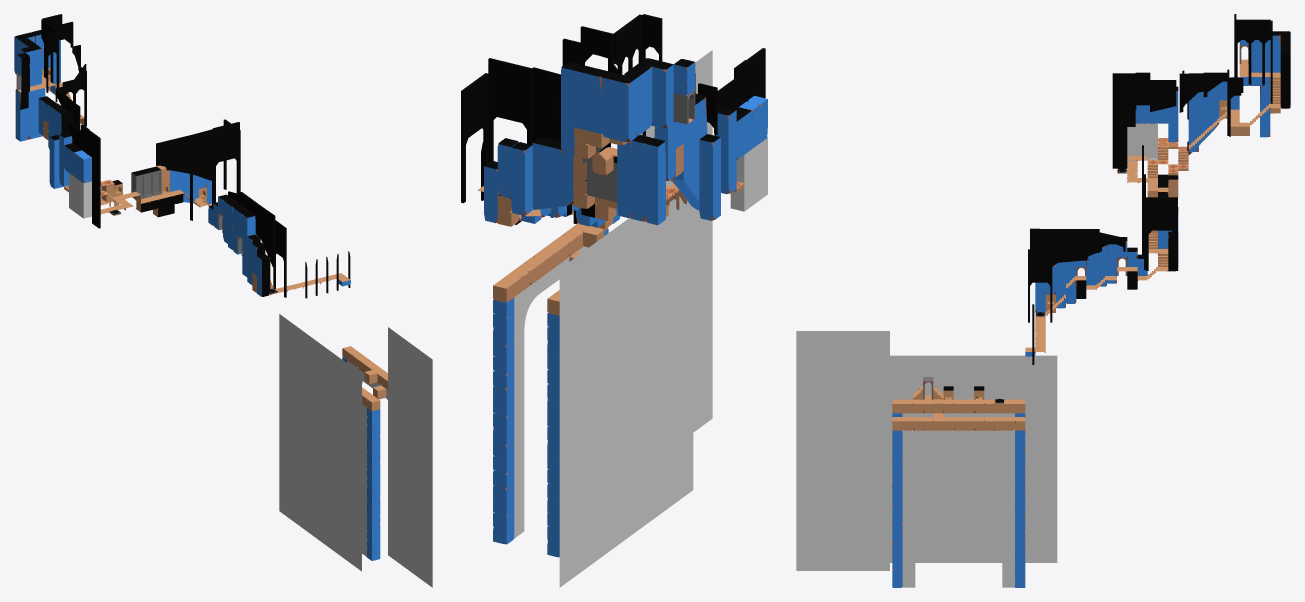
Rendered from Stage4-1.fbx.
3 views of the same model, side by side, from view 1: azimuth 30°, elevation 25°; view 2: azimuth 150°, elevation 25°; view 3: azimuth 270°, elevation 25° (orthographic). The views are drawn at different scales.
Visible parts, largest first — view 1: Plane002, Plane001, Box526, Object080, Object096, Box531, Box518, Object108, Object114, Object146, Object124; view 2: Plane002, Box526, Object062, Plane001, Object096, Box517, Object093, Object124, Object113, Object114, Object108, Object104 (+20 smaller); view 3: Plane002, Plane001, Box526, Box517, Object062, Object075, Object113, Object096, Object102.
Part boxes in pixels (<box>): Plane002: <box>279,314,361,571</box>; Plane001: <box>388,327,432,587</box>; Box526: <box>41,14,350,298</box>; Object080: <box>367,408,380,560</box>; Object096: <box>14,32,41,86</box>; Box531: <box>131,166,161,199</box>; Box518: <box>362,404,367,556</box>; Object108: <box>15,89,28,141</box>; Object114: <box>49,135,62,188</box>; Object146: <box>257,254,270,296</box>; Object124: <box>169,170,195,203</box>; Plane002: <box>559,196,693,587</box>; Box526: <box>461,14,765,223</box>; Object062: <box>493,298,514,544</box>; Plane001: <box>640,50,712,432</box>; Object096: <box>601,58,673,141</box>; Box517: <box>513,246,588,538</box>; Object093: <box>547,312,559,557</box>; Object124: <box>532,137,573,209</box>; Object113: <box>672,93,707,210</box>; Object114: <box>699,134,720,220</box>; Object108: <box>644,138,665,225</box>; Object104: <box>574,65,608,133</box>; Plane002: <box>890,355,1057,562</box>; Plane001: <box>796,331,889,570</box>; Box526: <box>1028,14,1272,364</box>; Box517: <box>902,430,1014,587</box>; Object062: <box>1015,430,1025,587</box>; Object075: <box>892,430,902,587</box>; Object113: <box>1188,84,1219,154</box>; Object096: <box>1251,31,1290,72</box>; Object102: <box>1280,48,1290,108</box>.
Size of the model in its own units: 547 by 1023 by 968.
